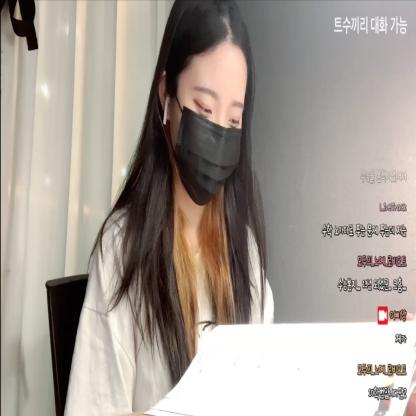streamer: (64, 0, 274, 416)
